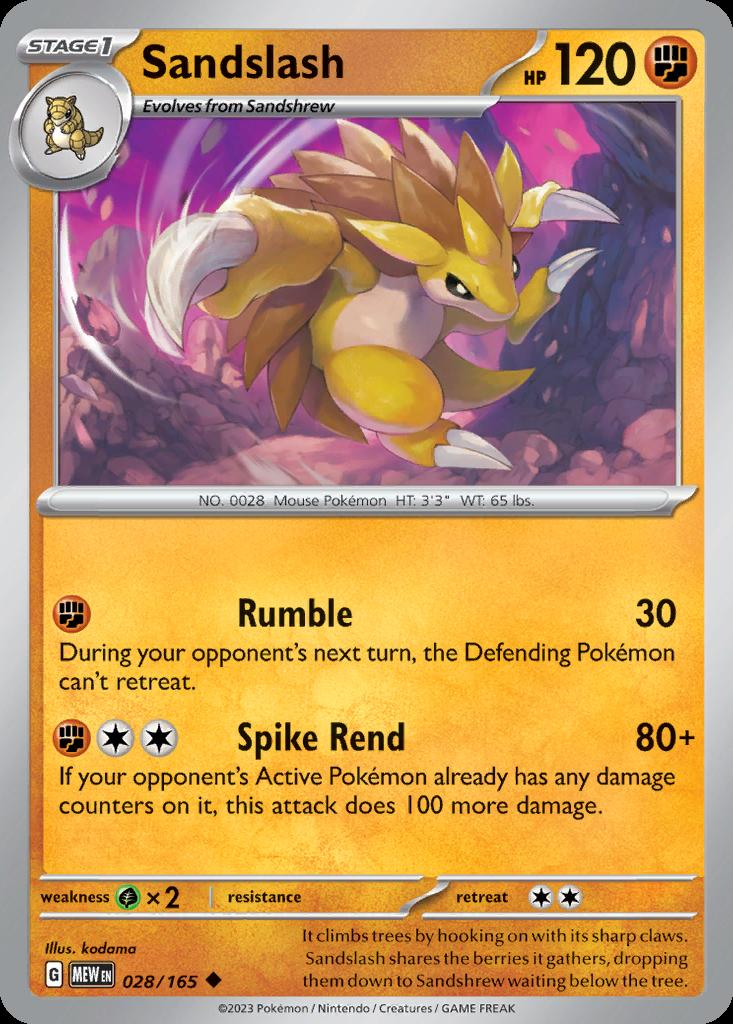card: (3, 0, 733, 1024)
hp: (513, 29, 703, 97)
name: (136, 34, 353, 84)
set num: (121, 963, 207, 993)
set symbol: (67, 957, 120, 997)
